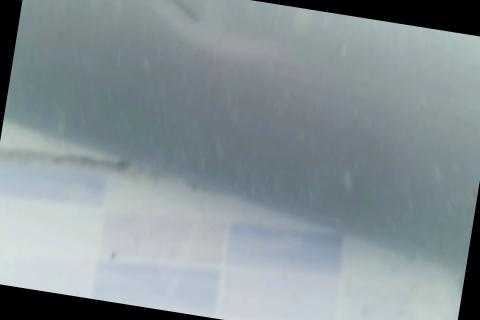keretakan: (119, 0, 208, 30)
